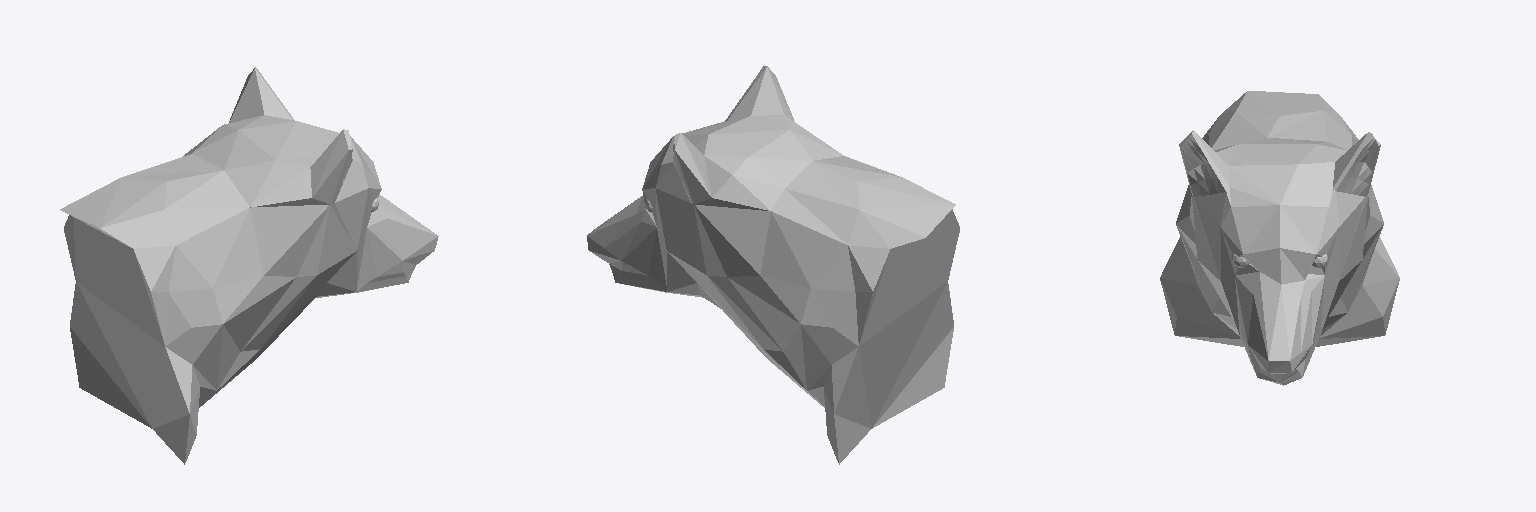
The model's file is wolf_head.obj.
The picture shows the model from 3 angles: view 1: azimuth 30°, elevation 25°; view 2: azimuth 150°, elevation 25°; view 3: azimuth 270°, elevation 25°; orthographic projection.
Visible parts, largest first — view 1: Wolf.001; view 2: Wolf.001; view 3: Wolf.001.
Part boxes in pixels (bbox=[...]): Wolf.001: bbox=[60, 67, 438, 464]; Wolf.001: bbox=[587, 66, 959, 464]; Wolf.001: bbox=[1160, 91, 1399, 385].
Bounding box in the file's own units: 0.6313 × 0.5033 × 0.3711.